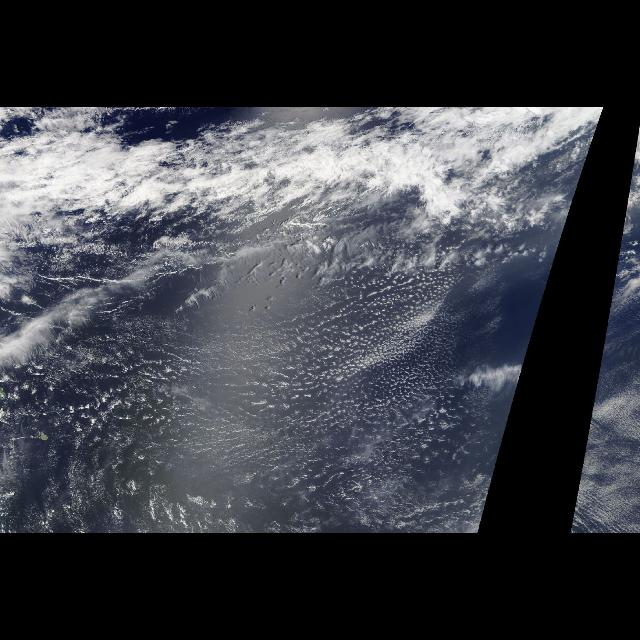Sugar: (46, 231, 488, 533)
